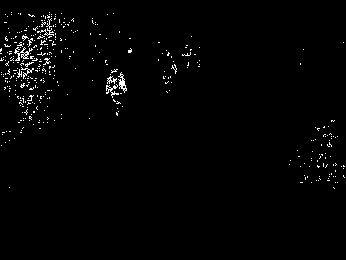person: (105, 67, 128, 117), (158, 48, 177, 94)
